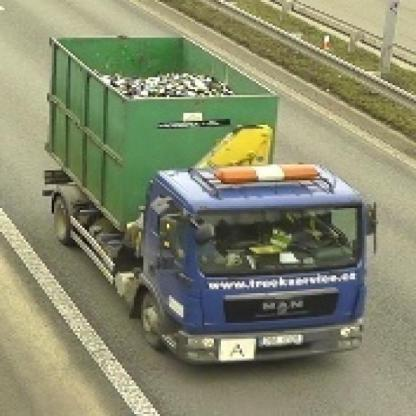truck: (44, 33, 380, 371)
